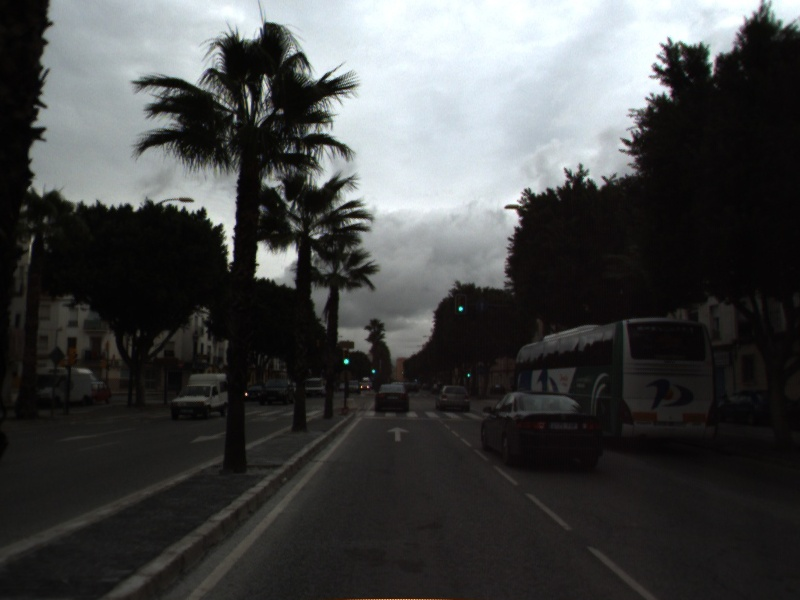STRAIGHT: (385, 425, 412, 444)
